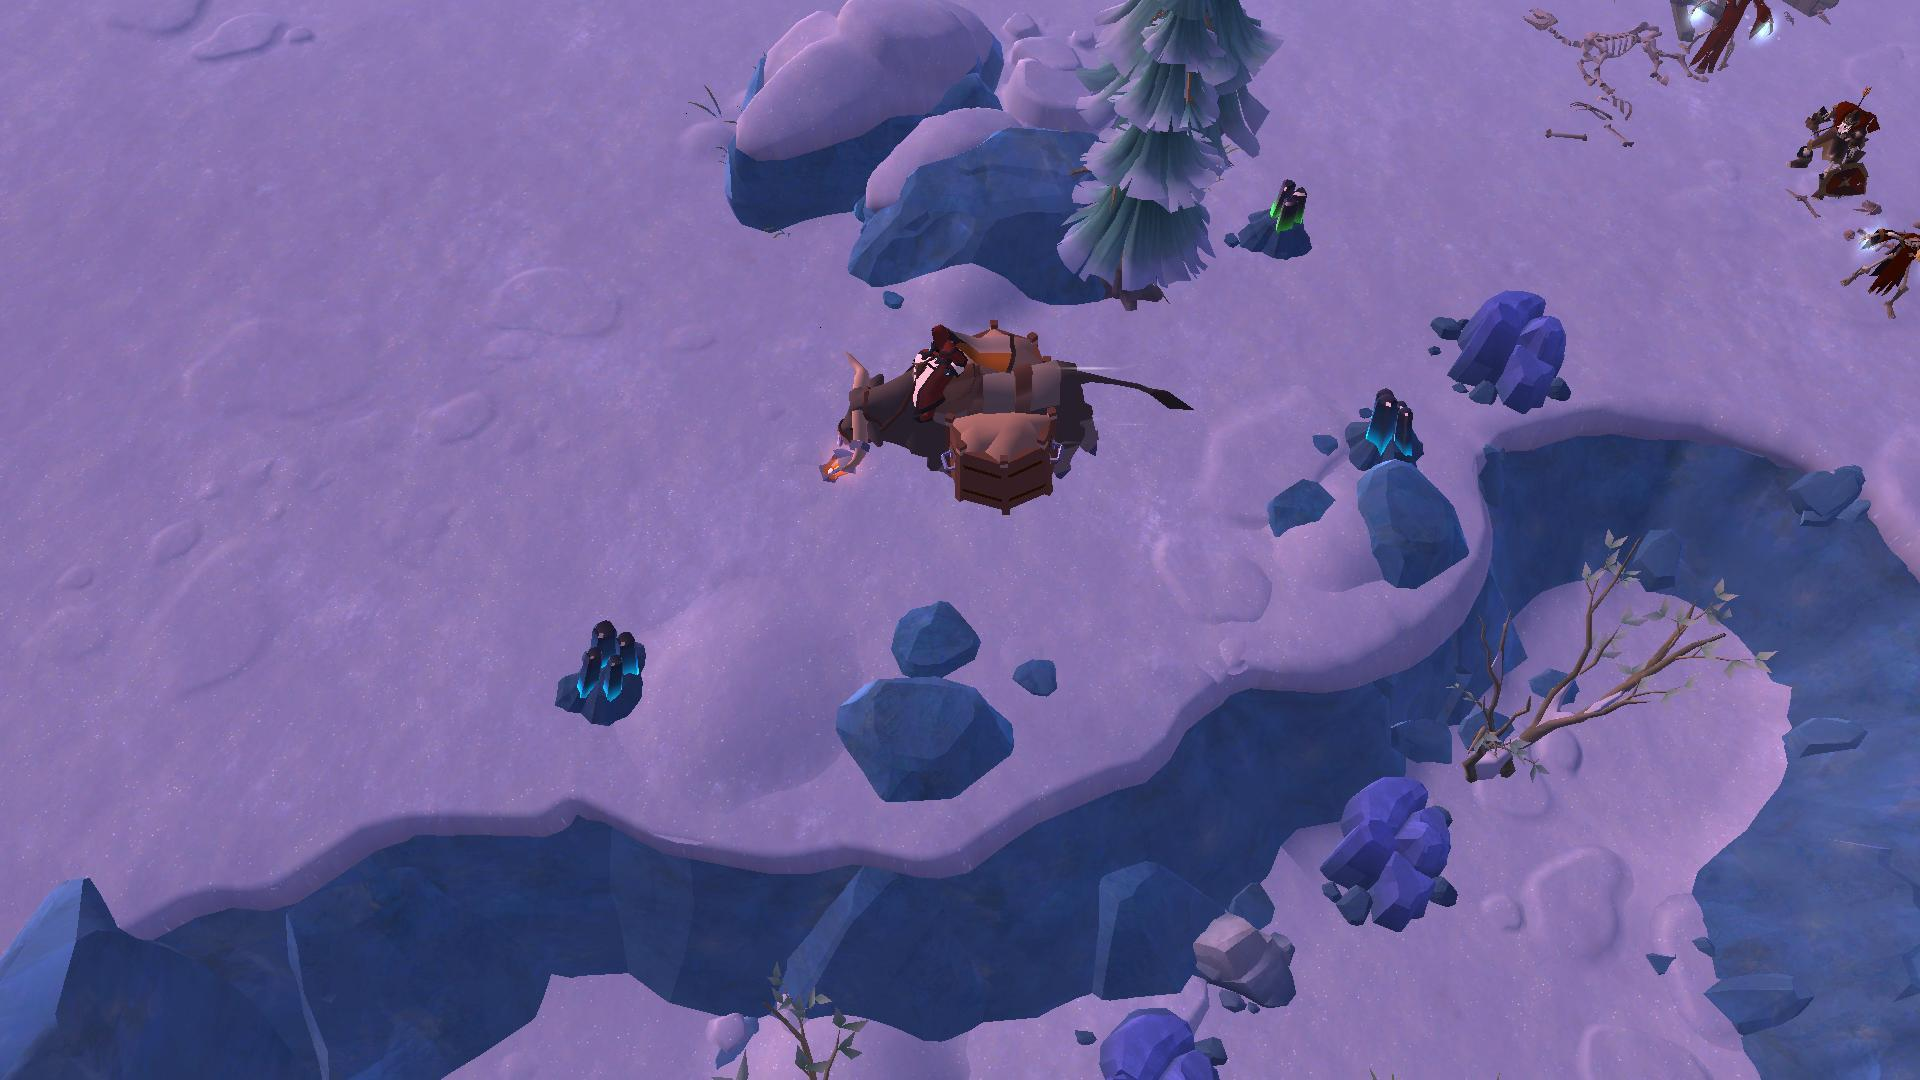enemy_factionUndead: (1782, 94, 1880, 215), (1687, 0, 1785, 86), (1855, 222, 1920, 315)
ore_t3: (1267, 178, 1309, 243)
ore_t4: (562, 617, 640, 700), (1356, 388, 1420, 464)
rock_t4: (1320, 769, 1457, 938), (1433, 284, 1567, 409), (1089, 993, 1225, 1077)
